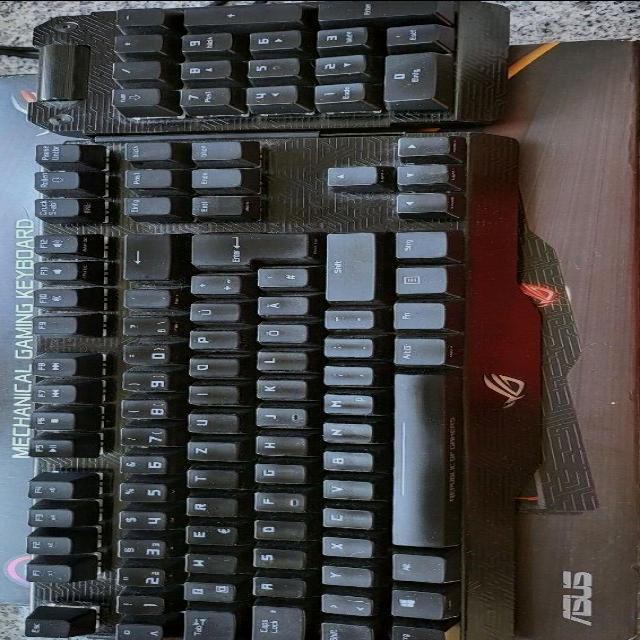0: (116, 343, 176, 366)
1: (111, 595, 167, 617)
2: (111, 567, 167, 589)
3: (114, 538, 172, 560)
4: (113, 511, 171, 533)
5: (113, 482, 171, 504)
6: (114, 453, 172, 475)
7: (113, 427, 171, 449)
8: (114, 399, 173, 421)
9: (115, 371, 174, 393)
a: (248, 577, 306, 599)
accent: (119, 289, 170, 309)
ae: (252, 295, 308, 317)
alt-left: (387, 553, 446, 584)
altgr-right: (388, 337, 444, 367)
b: (319, 450, 371, 472)
c: (318, 508, 370, 530)
caret: (112, 624, 163, 640)
comma: (318, 366, 372, 386)
d: (249, 520, 305, 541)
del: (119, 234, 170, 281)
e: (180, 524, 239, 546)
enter: (185, 233, 311, 269)
f: (249, 491, 305, 513)
g: (250, 463, 304, 484)
h: (251, 435, 305, 457)
hash: (252, 268, 308, 289)
i: (183, 385, 239, 406)
j: (250, 407, 306, 429)
k: (251, 379, 307, 401)
keyboard: (15, 0, 550, 640)
l: (252, 350, 308, 372)
less: (317, 595, 371, 617)
m: (318, 394, 374, 416)
minus: (320, 309, 372, 330)
n: (318, 422, 371, 444)
o: (185, 357, 238, 379)
oe: (251, 324, 307, 344)
p: (185, 330, 238, 351)
plus: (185, 275, 239, 295)
point: (319, 337, 372, 359)
q: (179, 581, 237, 603)
r: (181, 496, 237, 518)
s: (248, 548, 304, 570)
shift-left: (317, 621, 371, 640)
shift-lock: (247, 605, 306, 640)
shift-right: (321, 233, 373, 303)
space: (386, 372, 452, 550)
ss: (118, 316, 174, 337)
strg-left: (385, 625, 442, 640)
strg-right: (392, 230, 446, 260)
t: (182, 469, 238, 489)
tab: (178, 610, 234, 640)
u: (181, 412, 239, 434)
ue: (184, 302, 240, 324)
v: (318, 480, 371, 501)
w: (180, 553, 238, 575)
x: (318, 536, 370, 558)
y: (319, 566, 371, 588)
z: (181, 442, 237, 462)
